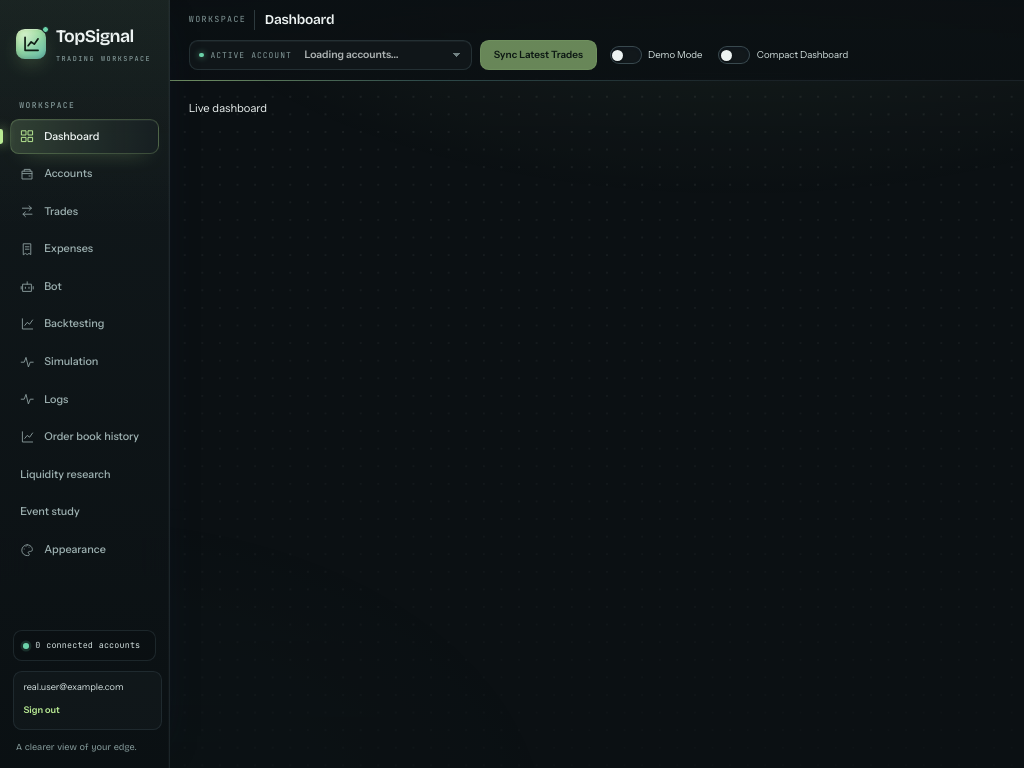
Scenario: AppShell Demo Mode policy › does not cross the Demo boundary while a live mutation is still in flight
The width and height of the screenshot is (1024, 768).
Click the switch labelled "Demo Mode" at (656, 55), box [605,40,707,70]
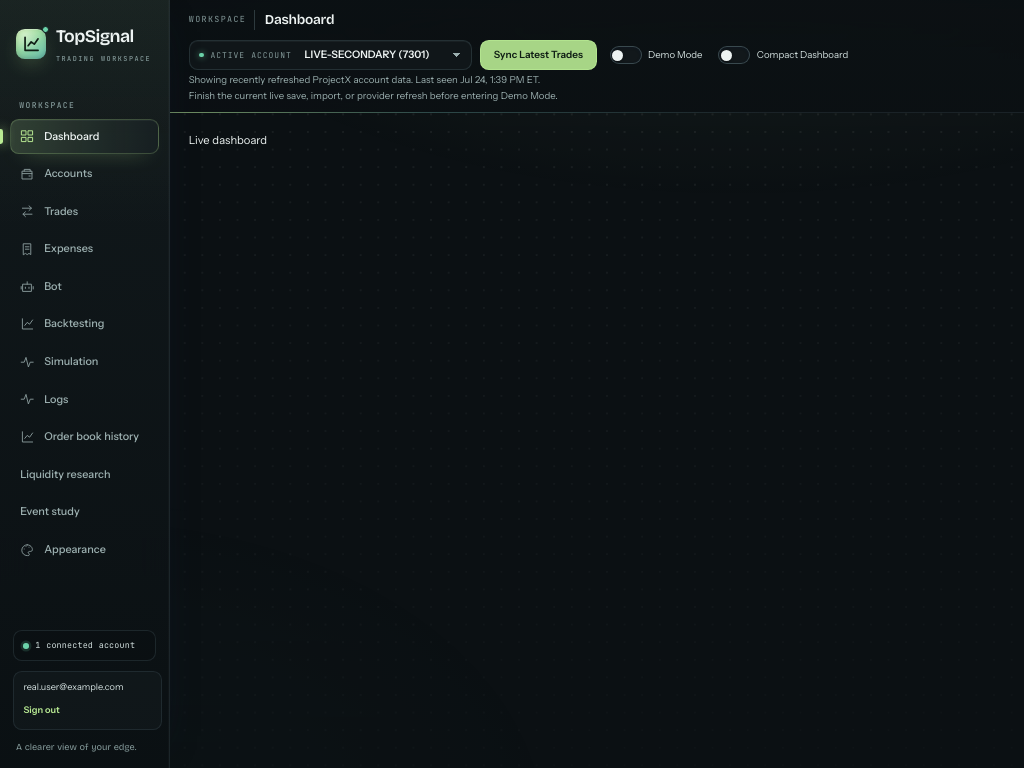
Expected: the text "Finish the current live save, import, or provider refresh before entering Demo Mode." is shown, [189,90,558,100]
